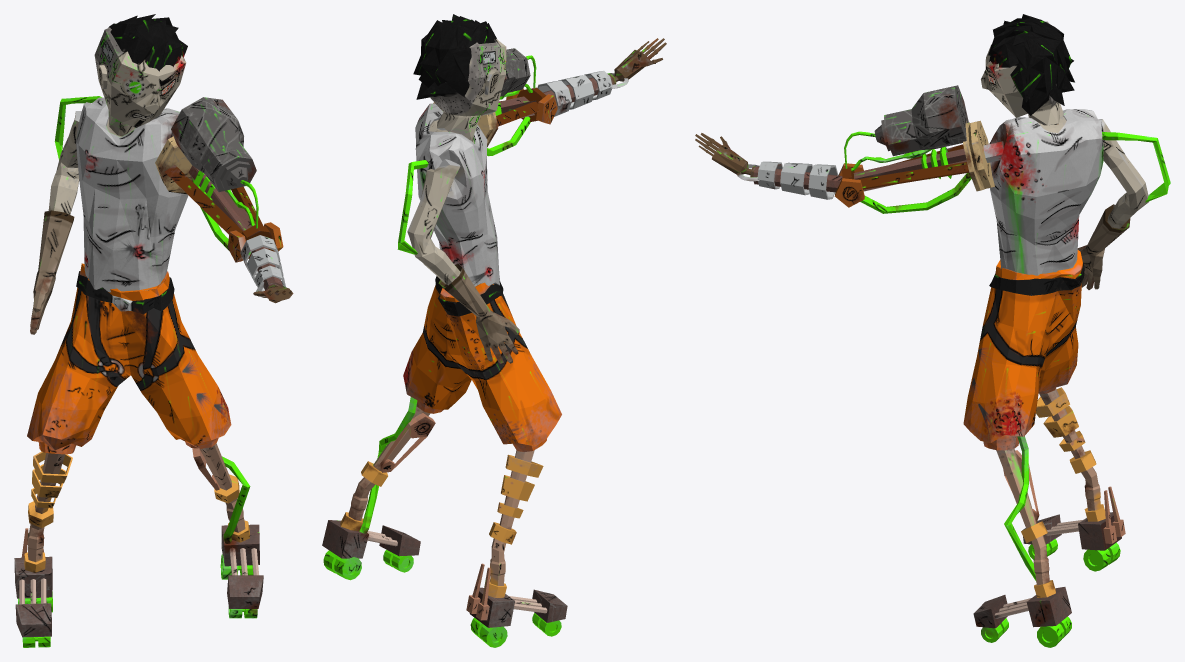
File: CyborgFINALAnimation_000032.obj
The picture shows the model from 3 angles, left to right: view 1: azimuth 30°, elevation 25°; view 2: azimuth 150°, elevation 25°; view 3: azimuth 270°, elevation 25°; orthographic projection. The views are drawn at different scales.
Visible parts, largest first — view 1: CyborgMesh_Cube.002; view 2: CyborgMesh_Cube.002; view 3: CyborgMesh_Cube.002.
Boxes of the visible parts, x1,y1,x2,y2 form: CyborgMesh_Cube.002: (14,14,293,647); CyborgMesh_Cube.002: (322,14,666,647); CyborgMesh_Cube.002: (695,14,1170,647).
Size of the model in its own units: 4.02 by 9.5 by 7.04.
